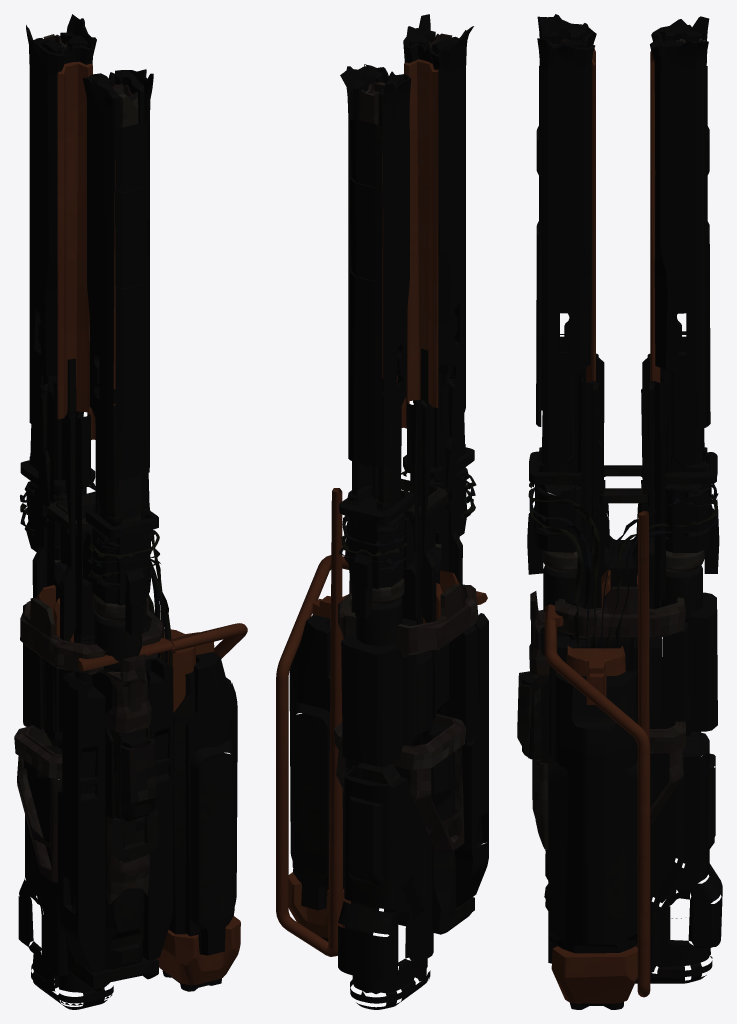
Rendered from ardor-2-salvaged-repeater.glb.
The picture shows the model from 3 angles, left to right: view 1: azimuth 30°, elevation 25°; view 2: azimuth 150°, elevation 25°; view 3: azimuth 270°, elevation 25°; orthographic projection. The views are drawn at different scales.
Visible parts, largest first — view 1: none_las_rep_s1-3_bas\none_las_rep_s2_bas, bar_01, none_las_rep_s1-3_bas\none_las_rep_s2_ven_1, none_las_rep_s1-3_pow\none_las_rep_s2_pow_1; view 2: none_las_rep_s1-3_bas\none_las_rep_s2_bas, bar_01, none_las_rep_s1-3_pow\none_las_rep_s2_pow_1, none_las_rep_s1-3_bas\none_las_rep_s2_ven_1; view 3: none_las_rep_s1-3_bas\none_las_rep_s2_bas, bar_01, none_las_rep_s1-3_bas\none_las_rep_s2_ven_1, none_las_rep_s1-3_pow\none_las_rep_s2_pow_1.
Boxes of the visible parts, box(x1,y1,x2,y2) form: none_las_rep_s1-3_bas\none_las_rep_s2_bas: box(14, 32, 247, 991); bar_01: box(26, 14, 153, 480); none_las_rep_s1-3_bas\none_las_rep_s2_ven_1: box(20, 483, 171, 666); none_las_rep_s1-3_pow\none_las_rep_s2_pow_1: box(31, 954, 113, 1009); none_las_rep_s1-3_bas\none_las_rep_s2_bas: box(276, 30, 488, 980); bar_01: box(340, 14, 473, 466); none_las_rep_s1-3_pow\none_las_rep_s2_pow_1: box(350, 959, 430, 1009); none_las_rep_s1-3_bas\none_las_rep_s2_ven_1: box(339, 471, 476, 565); none_las_rep_s1-3_bas\none_las_rep_s2_bas: box(517, 28, 722, 1009); bar_01: box(537, 14, 709, 429); none_las_rep_s1-3_bas\none_las_rep_s2_ven_1: box(528, 482, 718, 648); none_las_rep_s1-3_pow\none_las_rep_s2_pow_1: box(635, 946, 712, 983).
Bounding box in the file's own units: 0.4452 × 2.22 × 0.4359.
Materials: 9 (7 with a texture image).
